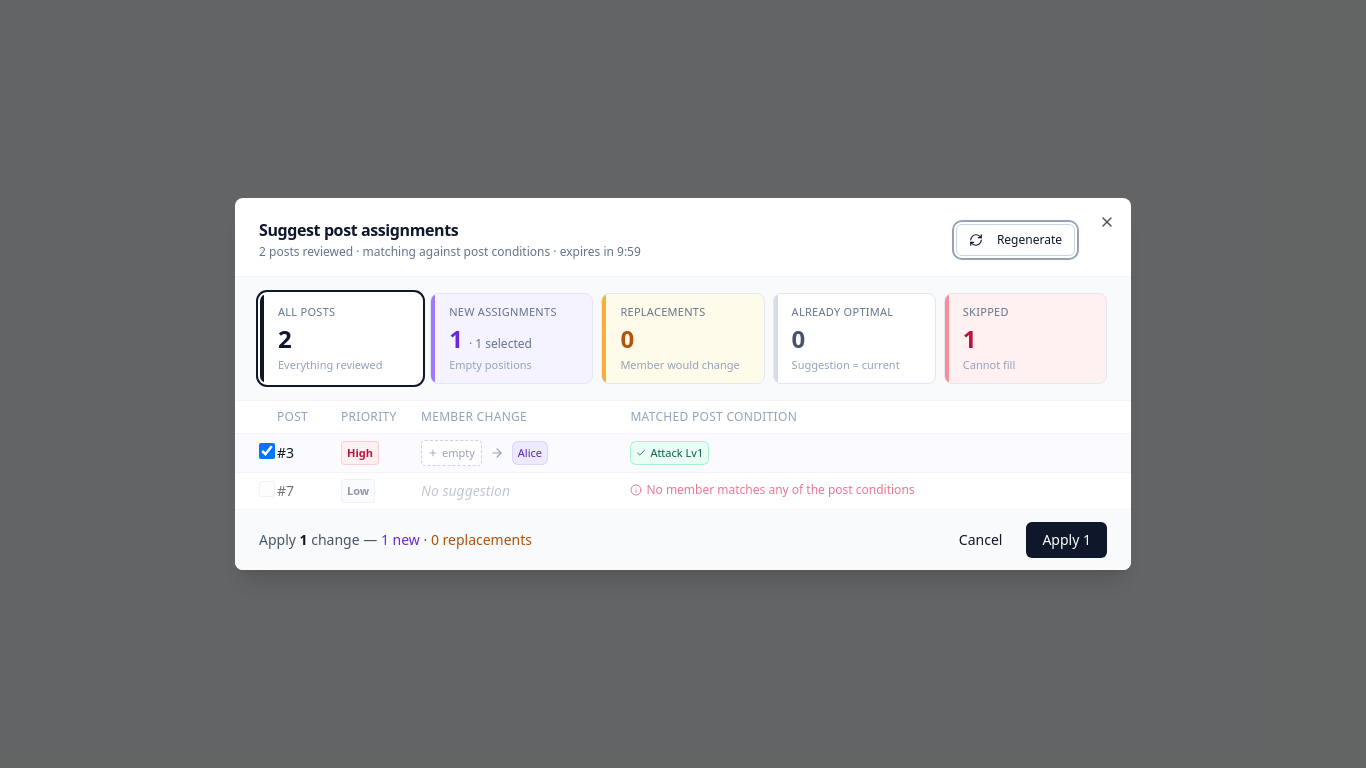
Test: PostSuggestionsModal › filter tiles hide non-matching rows and All restores them
Check: the text "Alice" is shown, box [512, 441, 548, 465]
Check: the text "No member matches any of the post conditions" is shown, box [630, 482, 915, 498]
# Click "Skipped" filter tile — only skipped row should show
Click the button "Skipped 1 Cannot fill".
click(1025, 338)  # box [944, 293, 1107, 384]
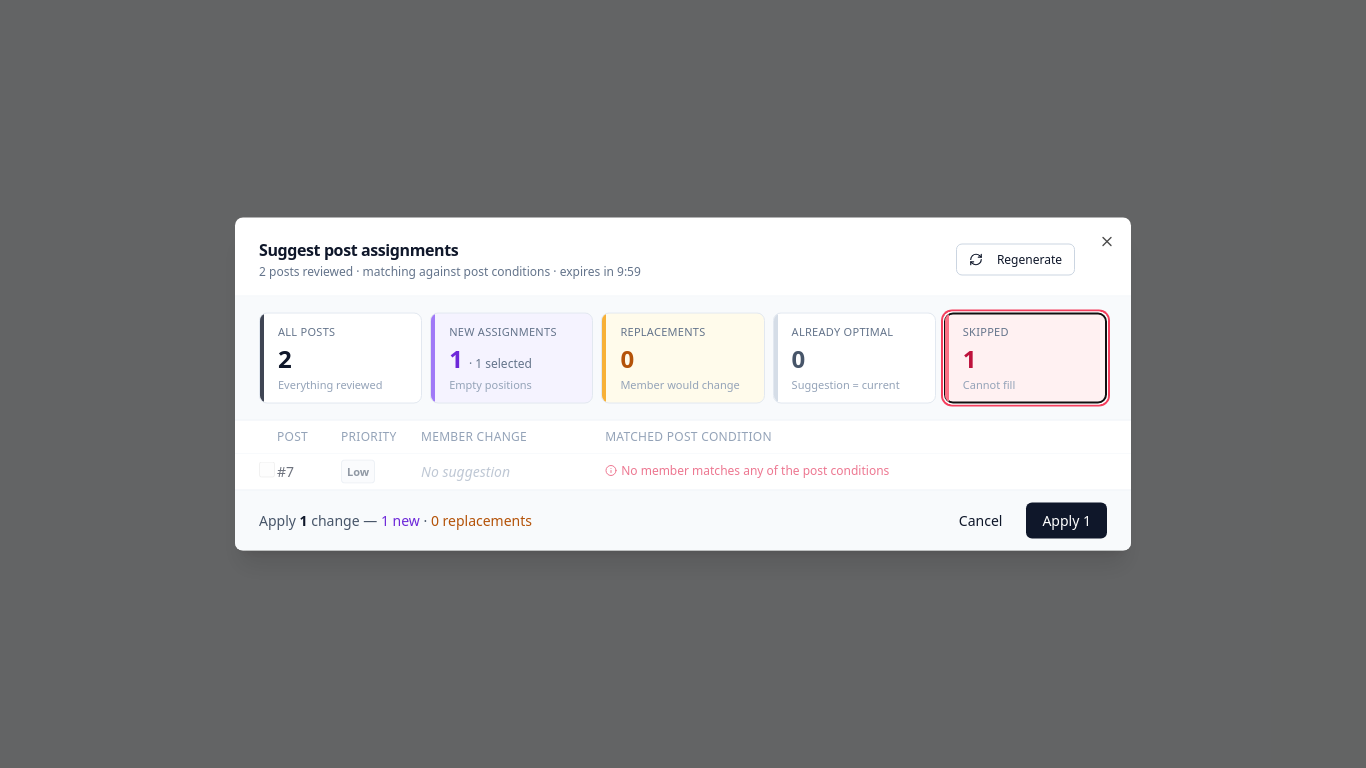
Check: the text "No member matches any of the post conditions" is shown, box [605, 462, 889, 478]
Check: the text "Alice" is gone
# Click "All" tile — both rows restored
Click the button "All posts 2 Everything reviewed".
click(341, 358)  # box [259, 312, 422, 404]
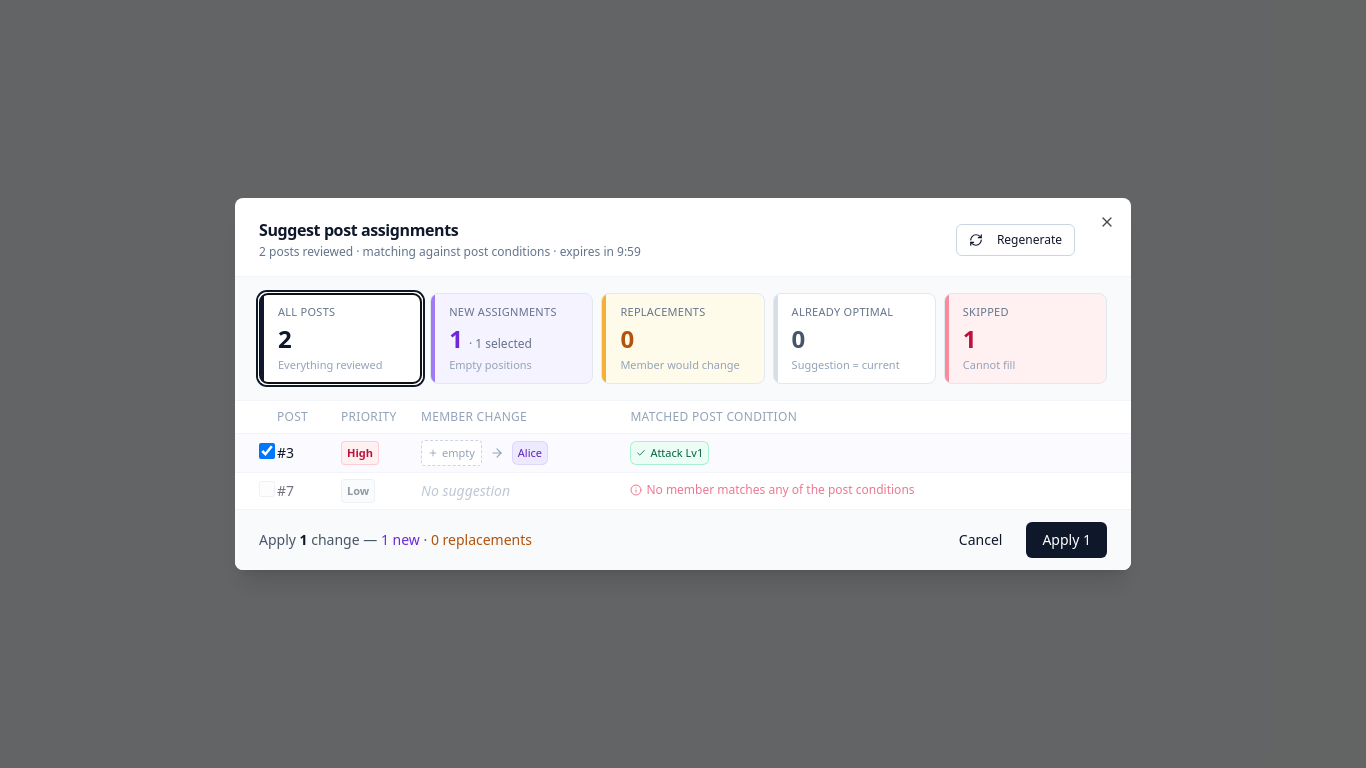
Check: the text "No member matches any of the post conditions" is shown, box [630, 482, 915, 498]
Check: the text "Alice" is shown, box [512, 441, 548, 465]
